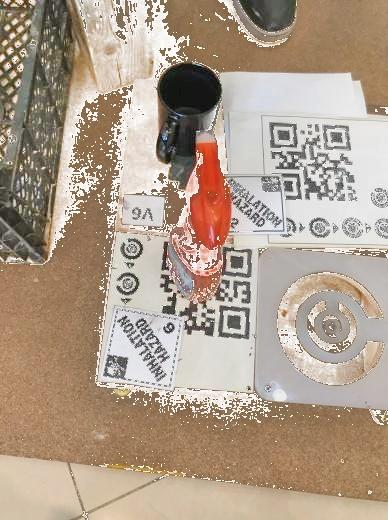poison: (97, 308, 181, 393), (221, 174, 287, 235)
